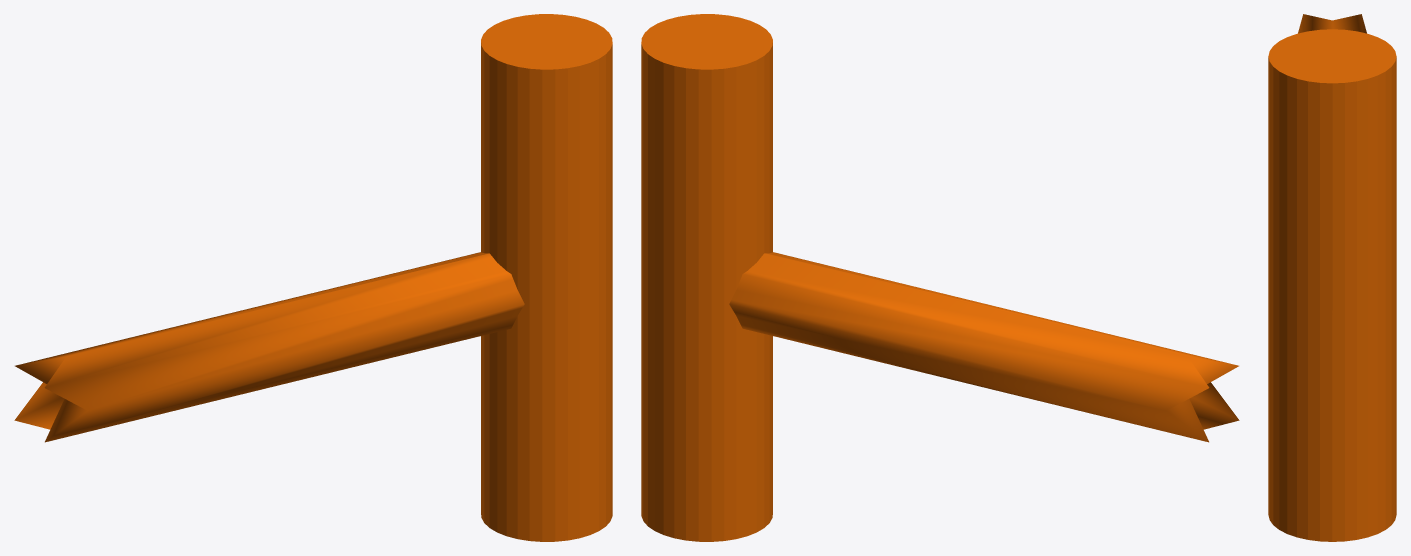
Rendered from guanosine.fbx.
3 renders of one model, left to right at view 1: azimuth 30°, elevation 25°; view 2: azimuth 150°, elevation 25°; view 3: azimuth 270°, elevation 25°, orthographic. The views are drawn at different scales.
Parts seen in each view (by area): view 1: guanosine; view 2: guanosine; view 3: guanosine.
Boxes of the visible parts, x1=… form: guanosine: x1=14, y1=14, x2=612, y2=541; guanosine: x1=641, y1=14, x2=1239, y2=541; guanosine: x1=1268, y1=14, x2=1396, y2=541.
Bounding box in the file's own units: 64.89 × 50.98 × 12.91.
